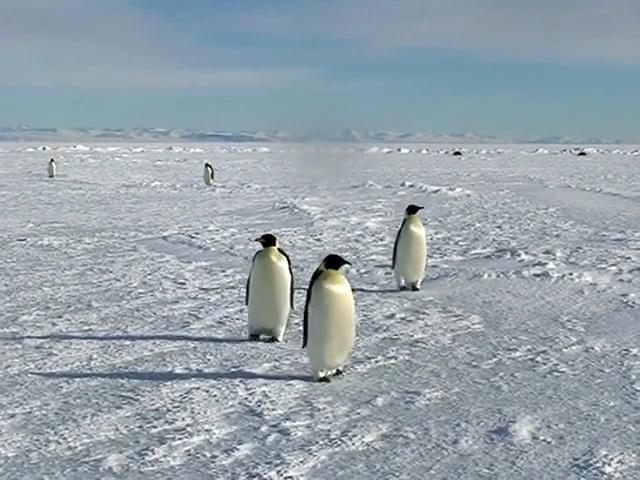animal: (392, 205, 425, 289)
